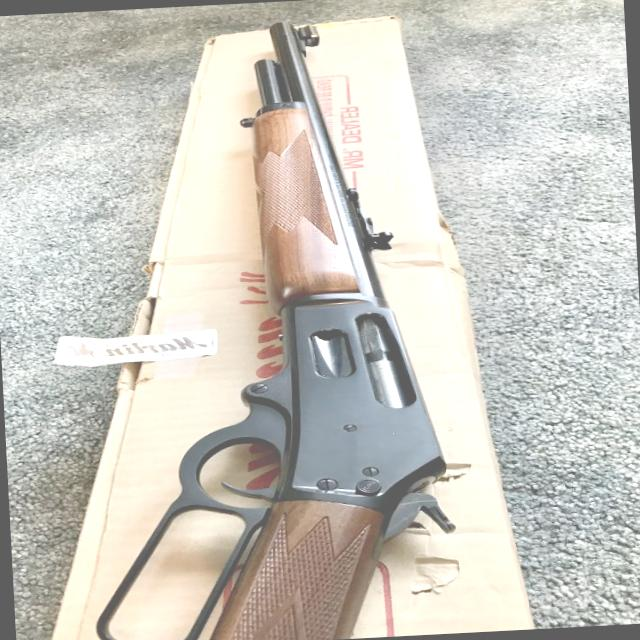shotgun: (15, 0, 483, 640)
